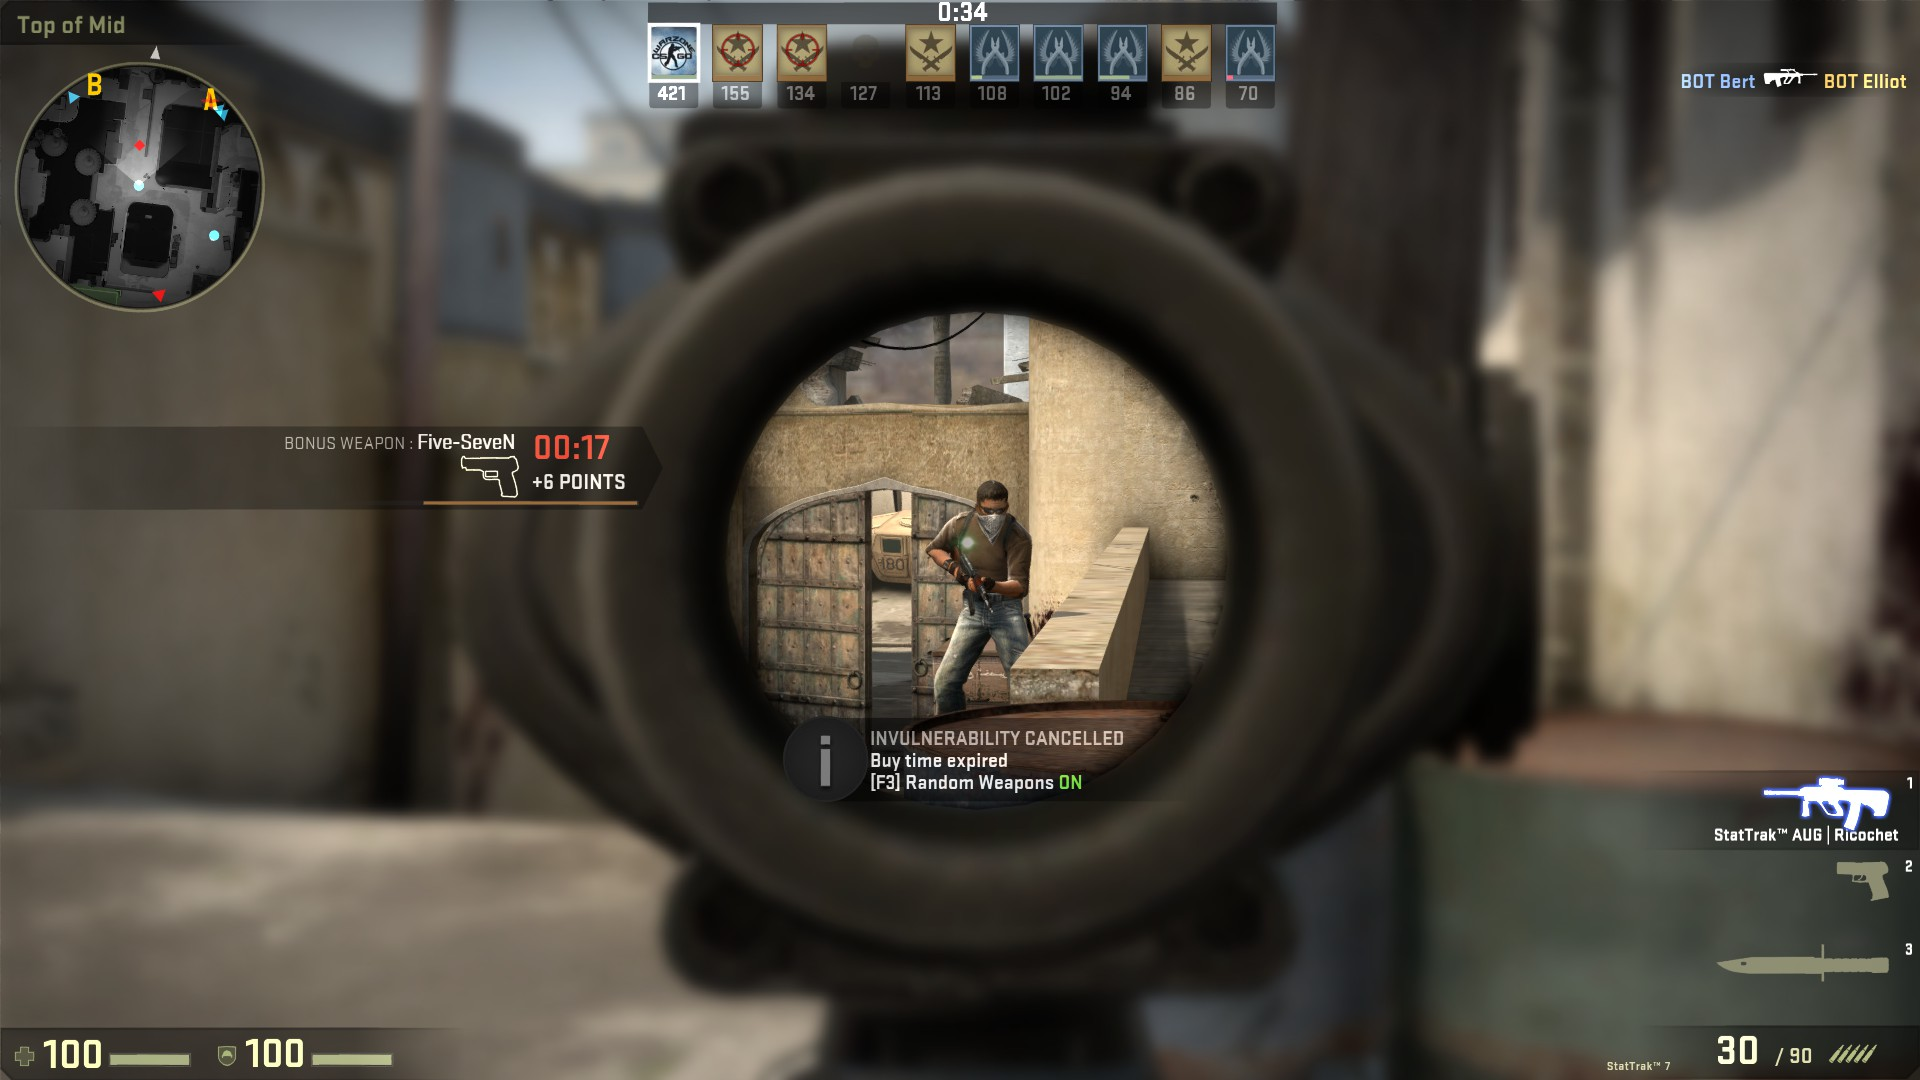t: (924, 473, 1036, 727)
th: (973, 477, 1015, 545)
